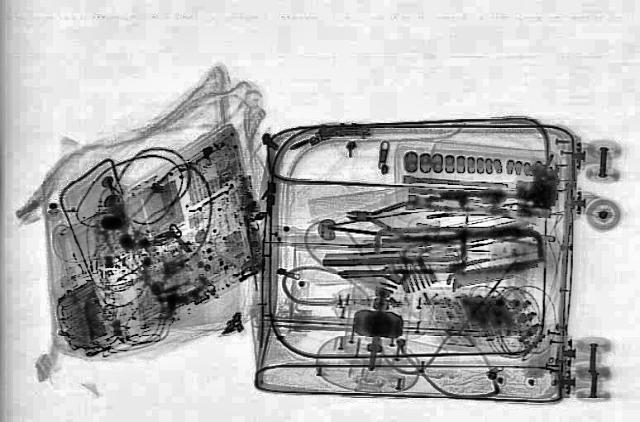Pliers: (343, 194, 435, 237)
